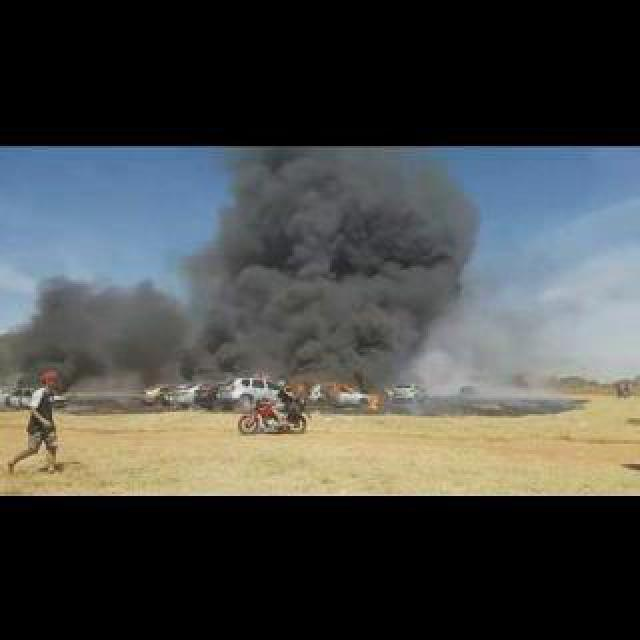Fire: (368, 390, 380, 410)
Smoke: (214, 158, 474, 382)
